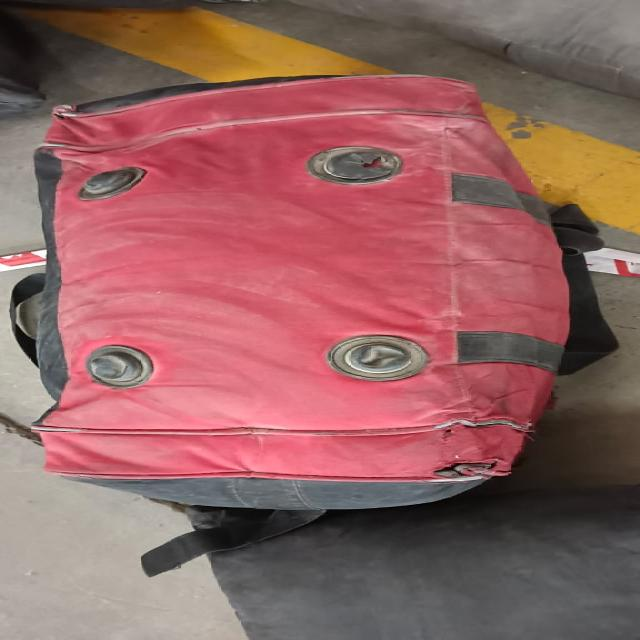Damage-bag: (331, 416, 533, 479), (328, 335, 428, 380), (308, 148, 400, 181)
